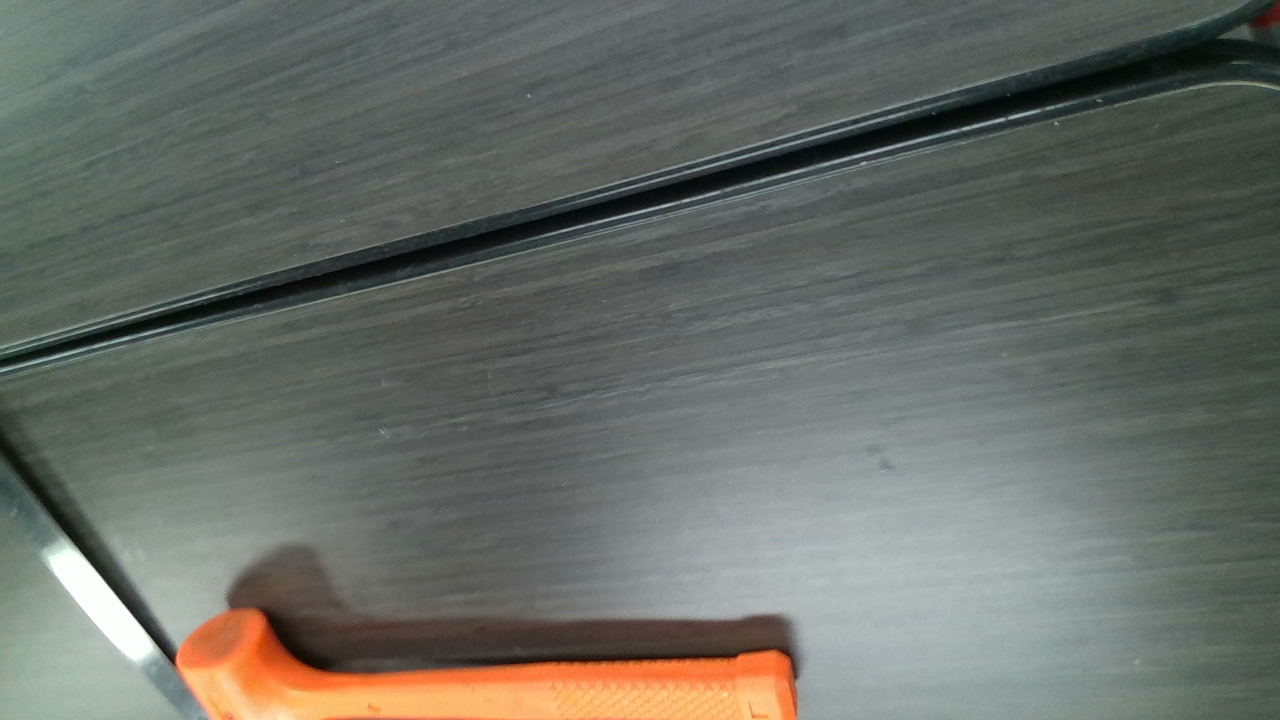Orange Hammer: (173, 607, 794, 720)
